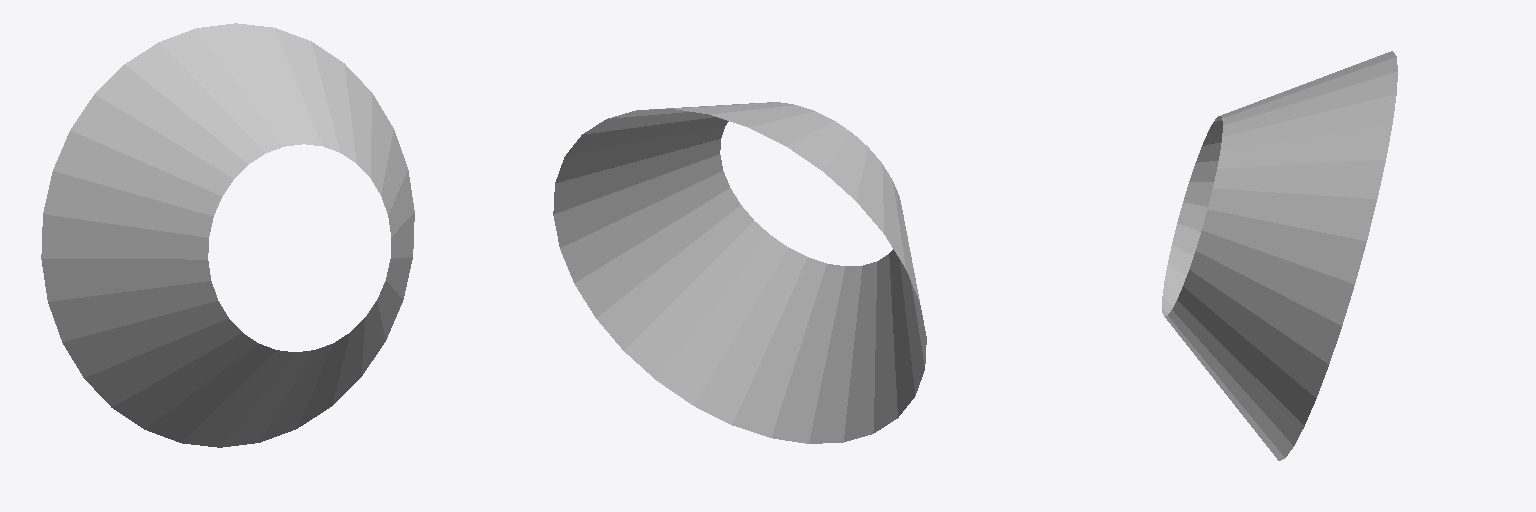
File: bulbHolderInside.obj
3 views of the same model, side by side, from view 1: azimuth 30°, elevation 25°; view 2: azimuth 150°, elevation 25°; view 3: azimuth 270°, elevation 25° (orthographic).
Visible parts, largest first — view 1: bulbHolderInside_Cylinder.007; view 2: bulbHolderInside_Cylinder.007; view 3: bulbHolderInside_Cylinder.007.
Part boxes in pixels (left/top/right/bottom): bulbHolderInside_Cylinder.007: left=41, top=23, right=414, bottom=447; bulbHolderInside_Cylinder.007: left=553, top=102, right=926, bottom=443; bulbHolderInside_Cylinder.007: left=1162, top=51, right=1397, bottom=460.
Bounding box in the file's own units: 0.5217 × 0.5016 × 0.2908.